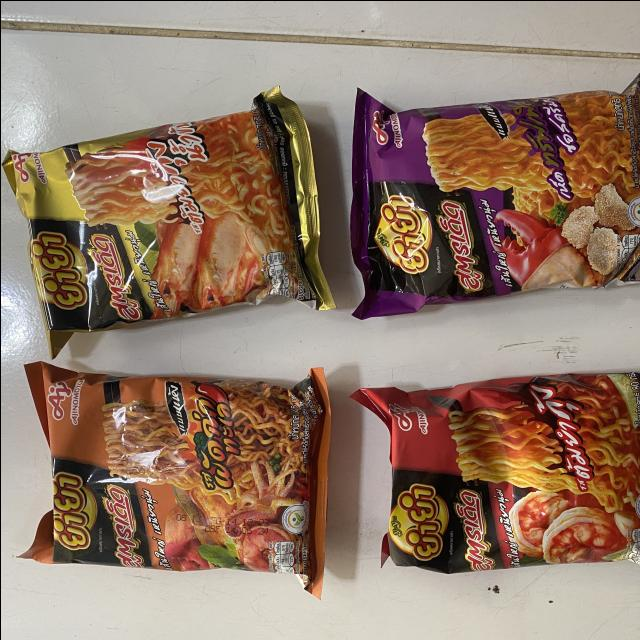plastik: (2, 87, 334, 357), (21, 362, 330, 595), (350, 72, 640, 317), (349, 374, 640, 576)
